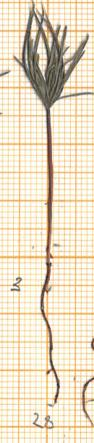flower: (9, 1, 94, 113)
root: (35, 246, 64, 407)
stem: (36, 109, 58, 247)
